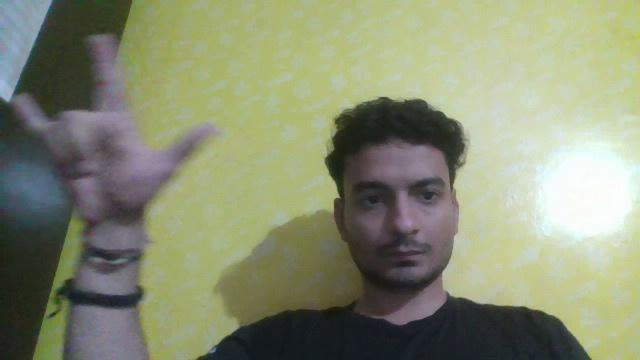Loveyou: (0, 35, 237, 231)
